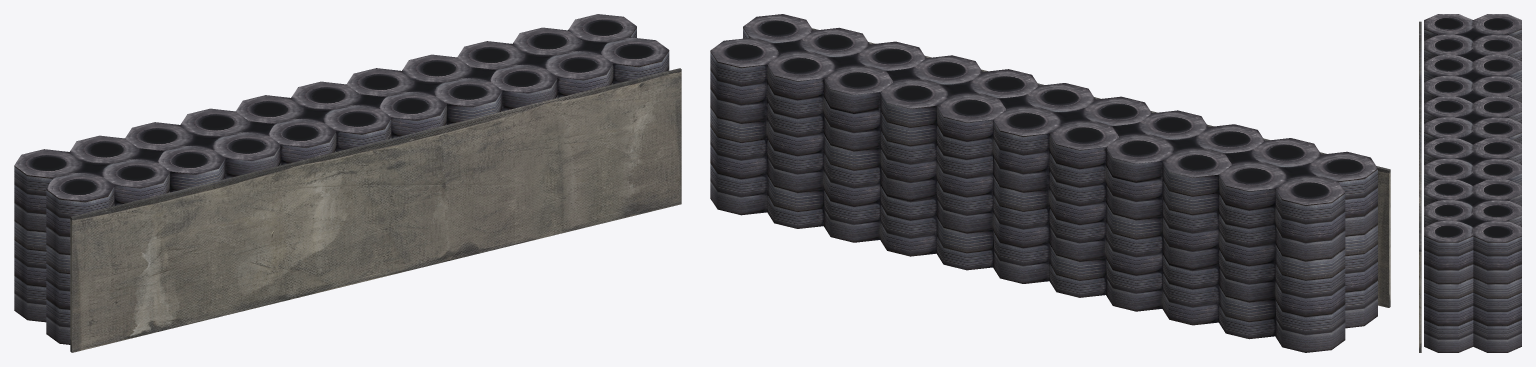
Rendered from Tyre_Wall_Covered.fbx.
The picture shows the model from 3 angles, left to right: view 1: azimuth 30°, elevation 25°; view 2: azimuth 150°, elevation 25°; view 3: azimuth 270°, elevation 25°; orthographic projection. The views are drawn at different scales.
Visible parts, largest first — view 1: Cover, Tyres; view 2: Tyres, Cover; view 3: Tyres, Cover.
Boxes of the visible parts, bbox=[...] form: Cover: bbox=[70, 68, 681, 352]; Tyres: bbox=[14, 14, 669, 344]; Tyres: bbox=[710, 14, 1377, 352]; Cover: bbox=[812, 28, 1390, 307]; Tyres: bbox=[1424, 14, 1521, 352]; Cover: bbox=[1419, 21, 1421, 352].
Bounding box in the file's own units: 500 × 114 × 95.44.
